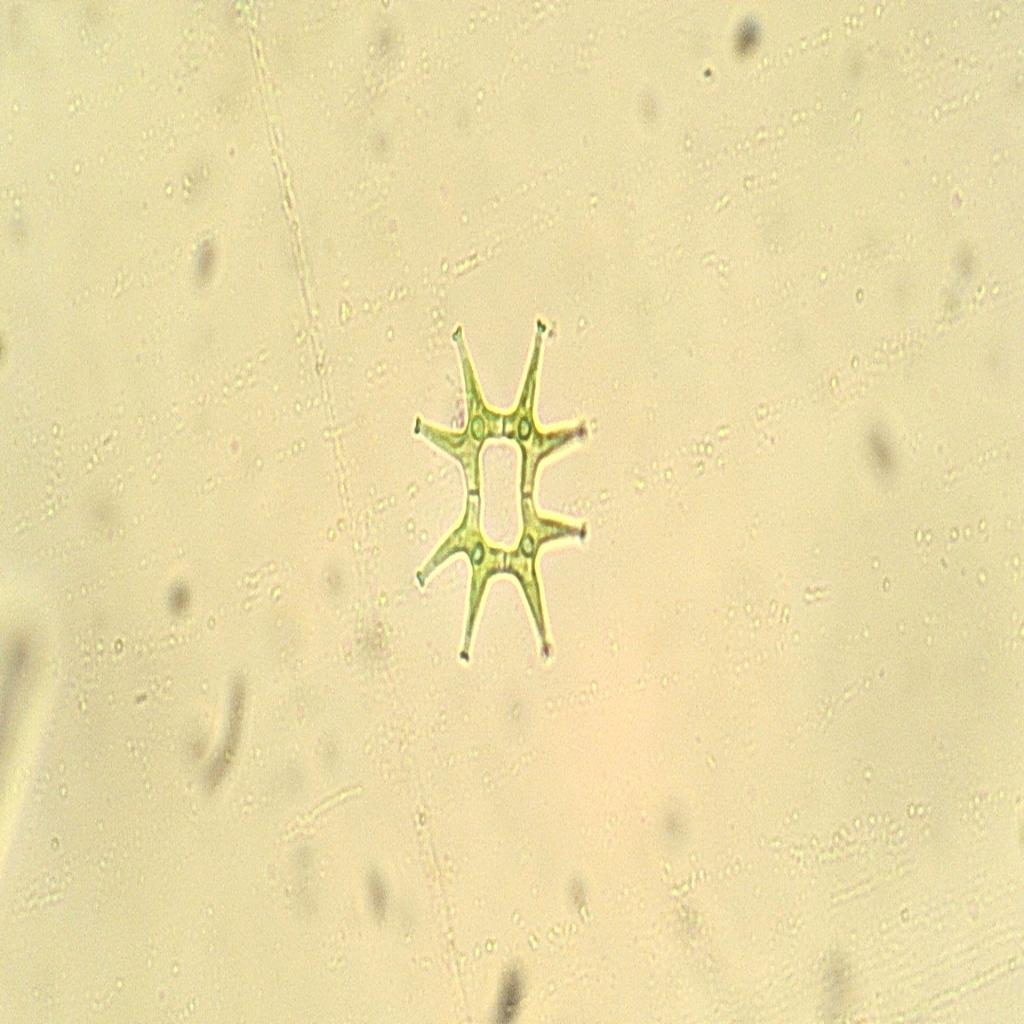Pediastrum_75O: (388, 266, 605, 693)
